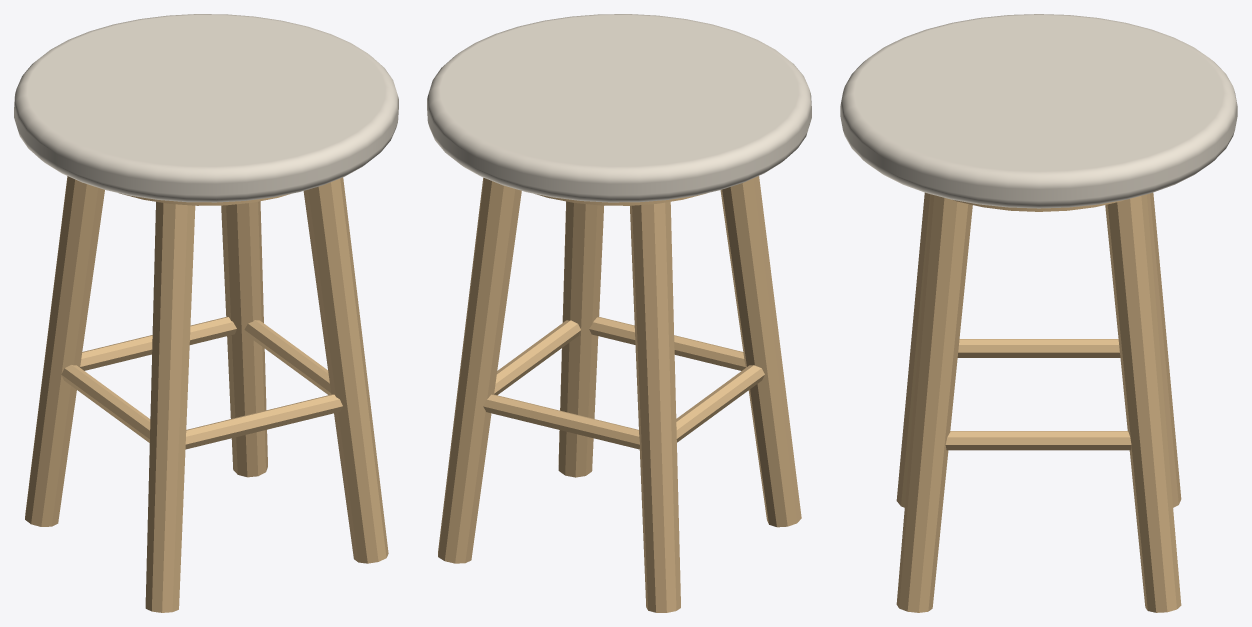
The model's file is stool_round.glb.
3 renders of one model, left to right at view 1: azimuth 30°, elevation 25°; view 2: azimuth 150°, elevation 25°; view 3: azimuth 270°, elevation 25°, orthographic. The views are drawn at different scales.
Visible parts, largest first — view 1: stool_round; view 2: stool_round; view 3: stool_round.
Part boxes in pixels (x1,y1,x2,y2): stool_round: (14,14,398,612); stool_round: (427,14,811,612); stool_round: (840,14,1237,612).
Size of the model in its own units: 0.35 by 0.45 by 0.35.
